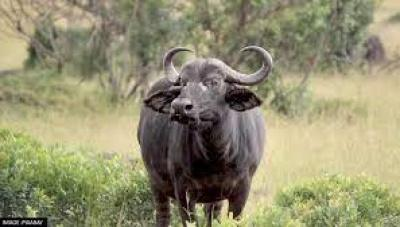buffalo: (137, 47, 271, 225)
